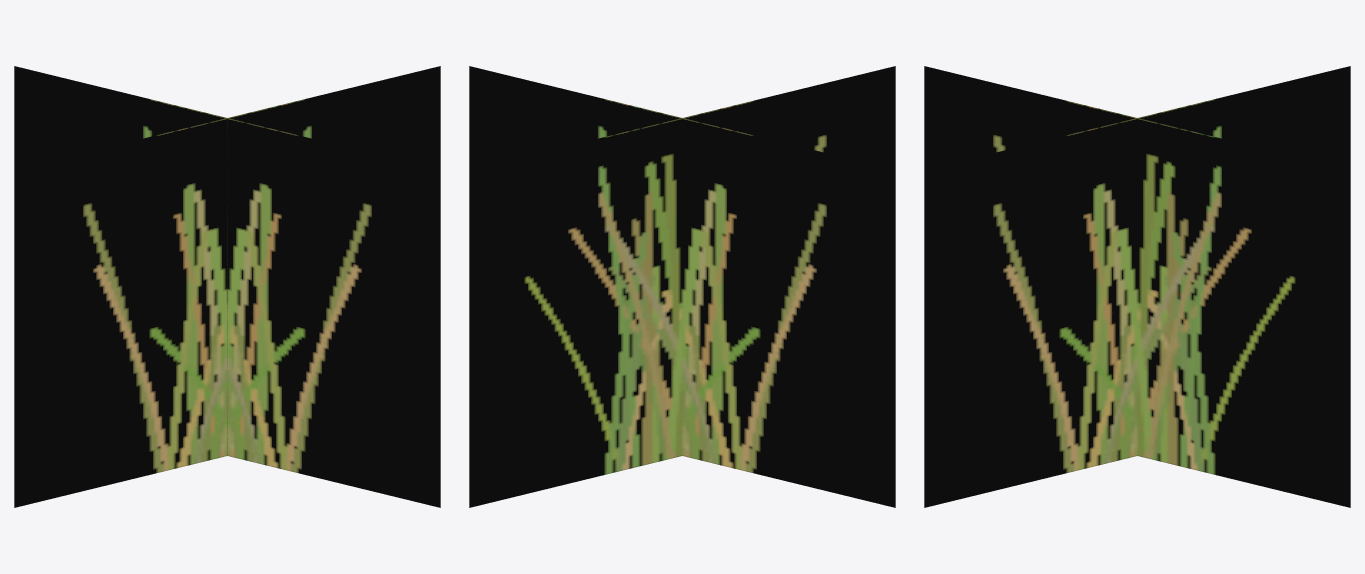
Rendered from grass_tuft.glb.
3 views of the same model, side by side, from view 1: azimuth 30°, elevation 25°; view 2: azimuth 150°, elevation 25°; view 3: azimuth 270°, elevation 25° (orthographic).
Parts seen in each view (by area): view 1: grass; view 2: grass; view 3: grass.
Boxes of the visible parts, bbox=[...] form: grass: bbox=[14, 66, 440, 507]; grass: bbox=[469, 66, 895, 507]; grass: bbox=[924, 66, 1350, 507].
Bounding box in the file's own units: 0.66 × 0.5 × 0.5716.
Materials: 1 (1 with a texture image).
